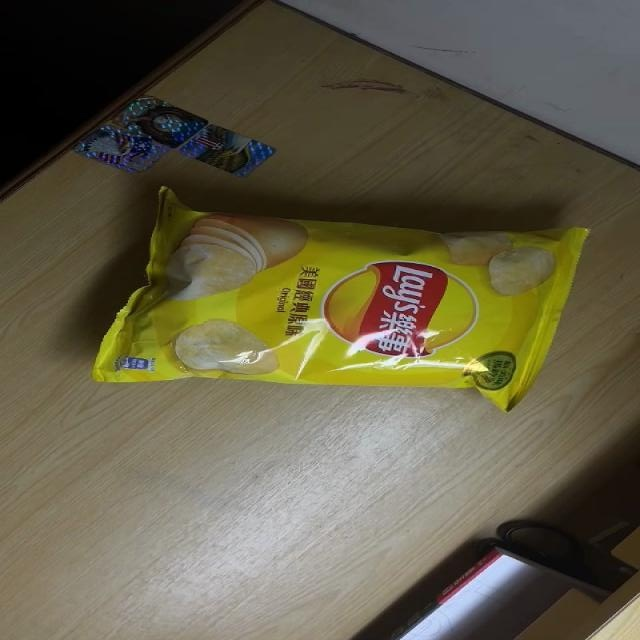Lay-s-original: (92, 188, 591, 412)
